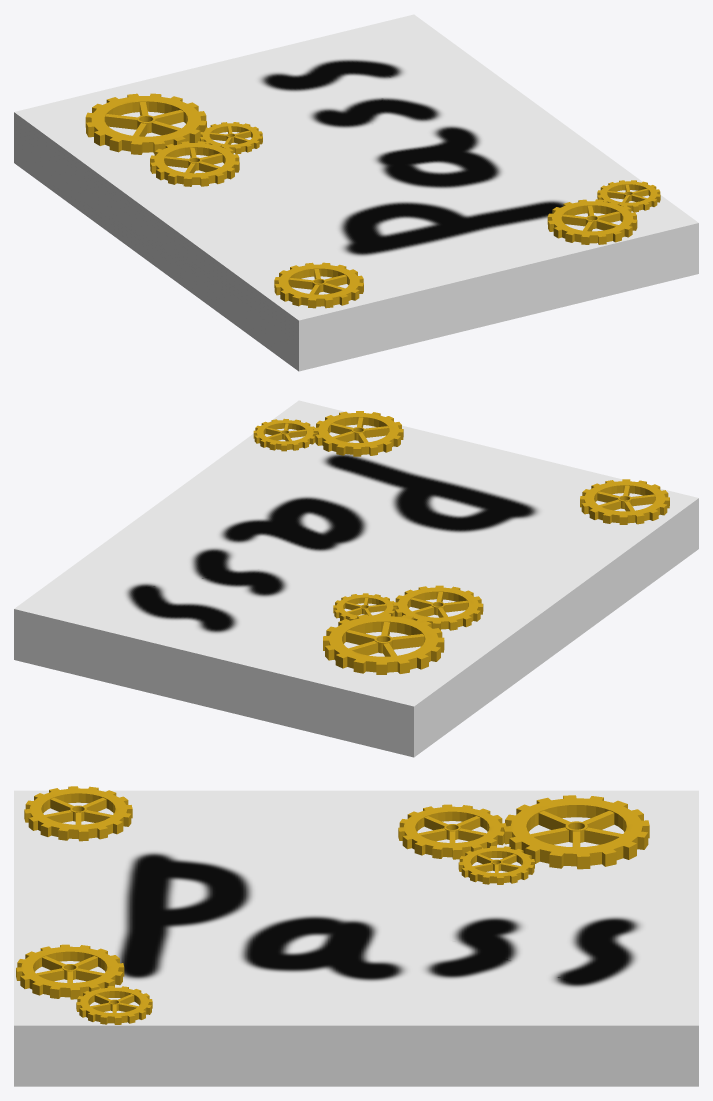
File: Key.obj
3 renders of one model, top to bottom at view 1: azimuth 30°, elevation 25°; view 2: azimuth 150°, elevation 25°; view 3: azimuth 270°, elevation 25°, orthographic. The views are drawn at different scales.
Visible parts, largest first — view 1: 立方体, 歯車_円柱.006, 歯車_円柱.004, 歯車_円柱.005, 歯車_円柱.001, 歯車_円柱.003, 歯車_円柱.002; view 2: 立方体, 歯車_円柱.006, 歯車_円柱.005, 歯車_円柱.004, 歯車_円柱.001, 歯車_円柱.003, 歯車_円柱.002; view 3: 立方体, 歯車_円柱.006, 歯車_円柱.005, 歯車_円柱.004, 歯車_円柱.001, 歯車_円柱.002, 歯車_円柱.003.
Boxes of the visible parts, x1,y1,x2,y2 form: 立方体: (14, 14, 698, 371); 歯車_円柱.006: (85, 93, 206, 154); 歯車_円柱.004: (547, 199, 637, 244); 歯車_円柱.005: (274, 262, 363, 308); 歯車_円柱.001: (150, 141, 239, 186); 歯車_円柱.003: (597, 180, 660, 212); 歯車_円柱.002: (200, 122, 262, 154); 立方体: (14, 400, 698, 757); 歯車_円柱.006: (323, 613, 444, 674); 歯車_円柱.005: (580, 479, 669, 524); 歯車_円柱.004: (313, 411, 403, 456); 歯車_円柱.001: (393, 585, 483, 630); 歯車_円柱.003: (253, 418, 316, 451); 歯車_円柱.002: (333, 593, 396, 620); 立方体: (14, 790, 698, 1086); 歯車_円柱.006: (503, 795, 649, 869); 歯車_円柱.005: (24, 786, 132, 841); 歯車_円柱.004: (16, 944, 124, 999); 歯車_円柱.001: (398, 804, 506, 859); 歯車_円柱.002: (458, 846, 534, 884); 歯車_円柱.003: (76, 986, 152, 1024).
Bounding box in the file's own units: 3.24 × 0.4738 × 3.99.
